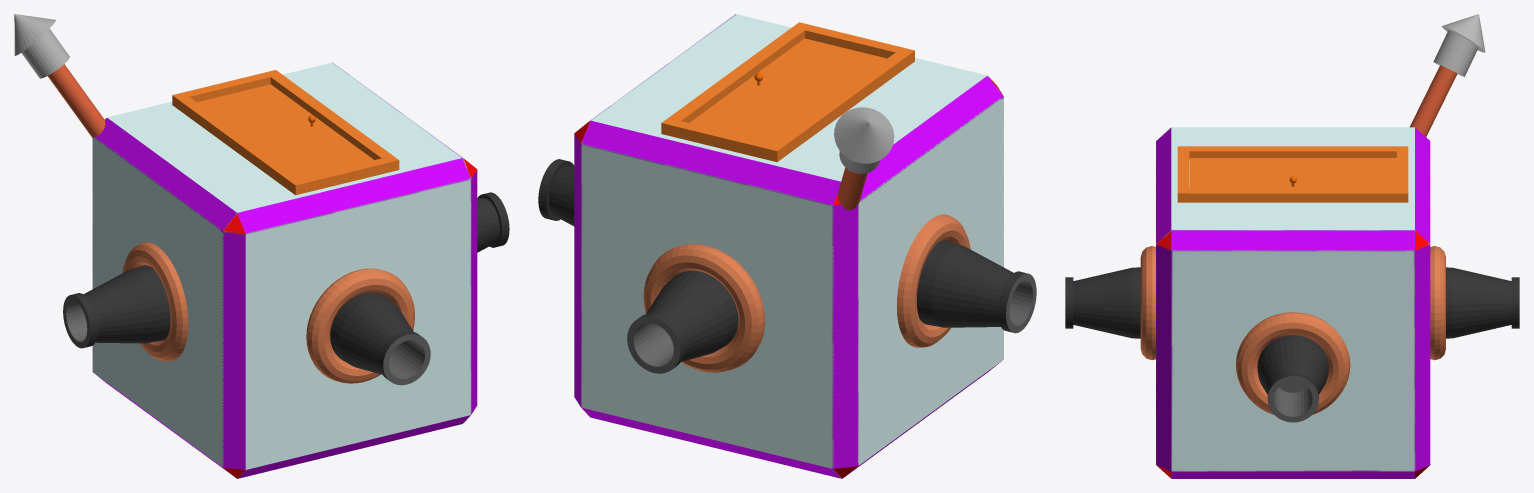
The picture shows the model from 3 angles, left to right: view 1: azimuth 30°, elevation 25°; view 2: azimuth 150°, elevation 25°; view 3: azimuth 270°, elevation 25°; orthographic projection. The views are drawn at different scales.
Visible parts, largest first — view 1: 円柱.004; view 2: 円柱.004; view 3: 円柱.004.
Part boxes in pixels (left/top/right/bottom): 円柱.004: left=14, top=14, right=509, bottom=478; 円柱.004: left=538, top=14, right=1036, bottom=478; 円柱.004: left=1065, top=14, right=1519, bottom=478.
Size of the model in its own units: 37.78 by 30.91 by 37.95.
4 materials, 4 textured.
